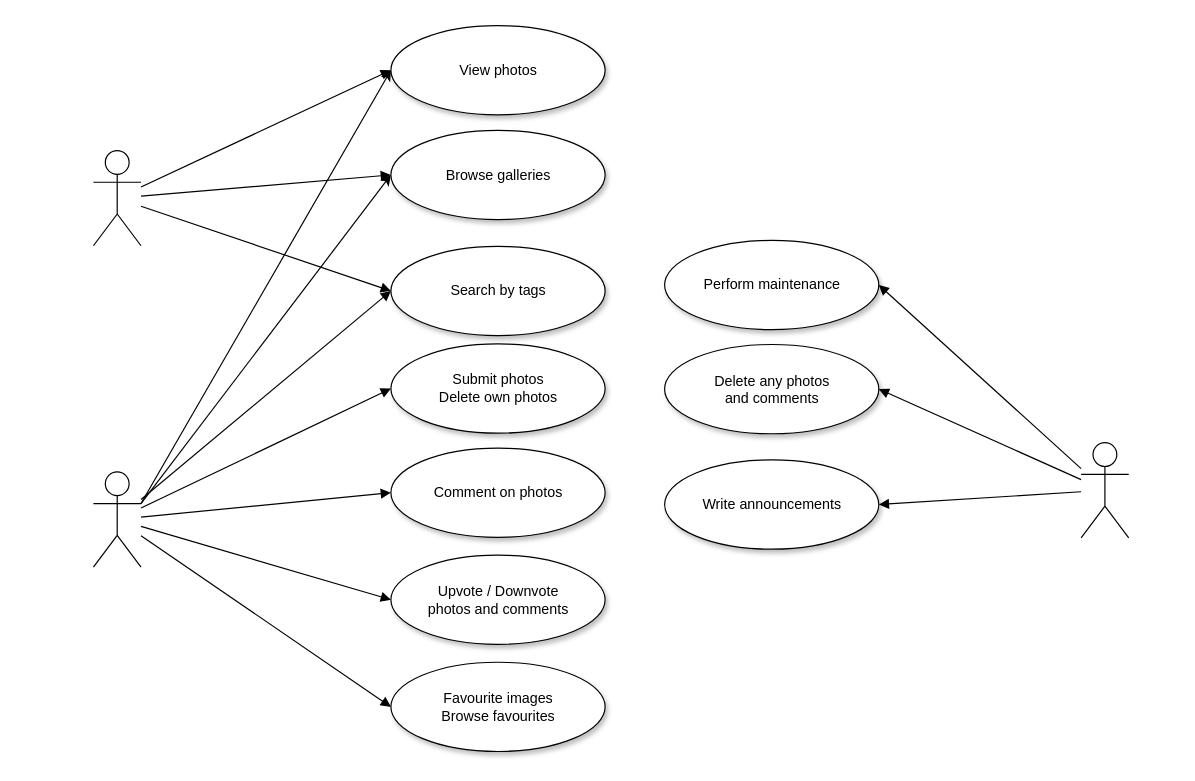
Image size: 1195x781. Some labels were removed from this diagram. Each missing label, with the centre of its shape:
Administrator: (1104,489)
User, logged in: (116,519)
User, not logged in: (116,197)
